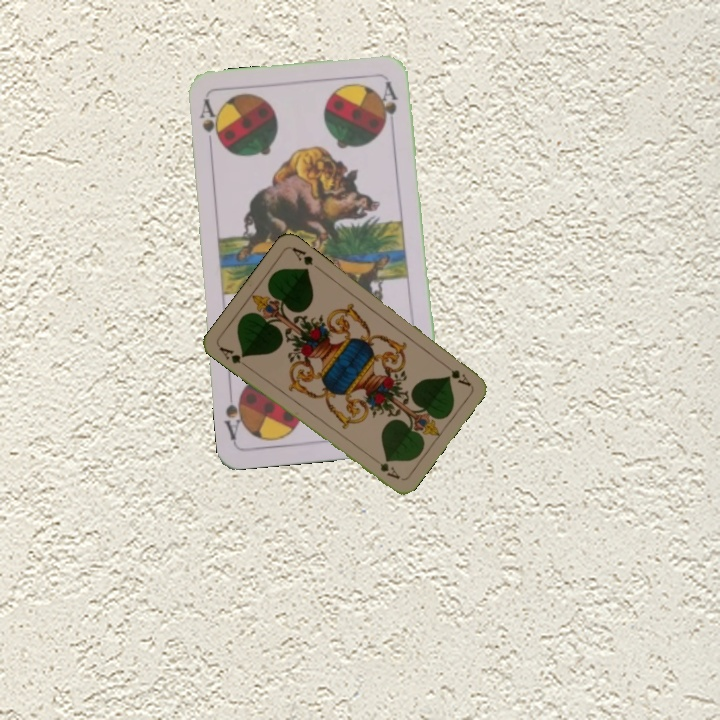GA: (438, 358, 473, 389), (215, 342, 251, 370)
SA: (196, 95, 222, 147)
